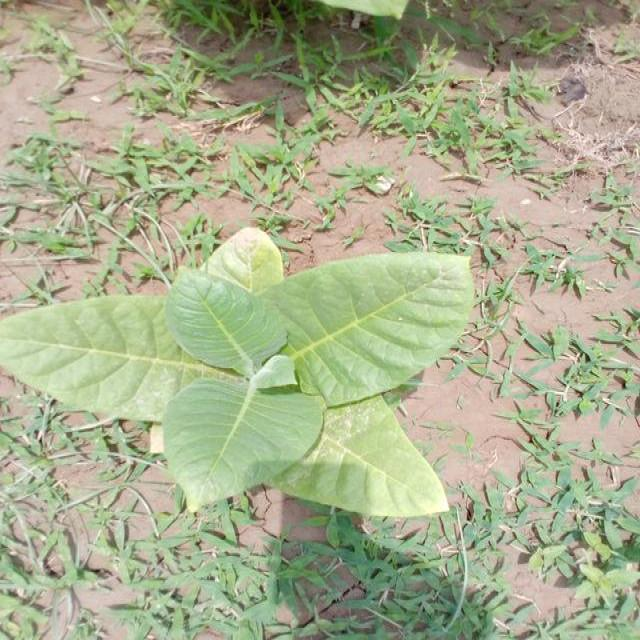crop: (5, 224, 484, 533)
